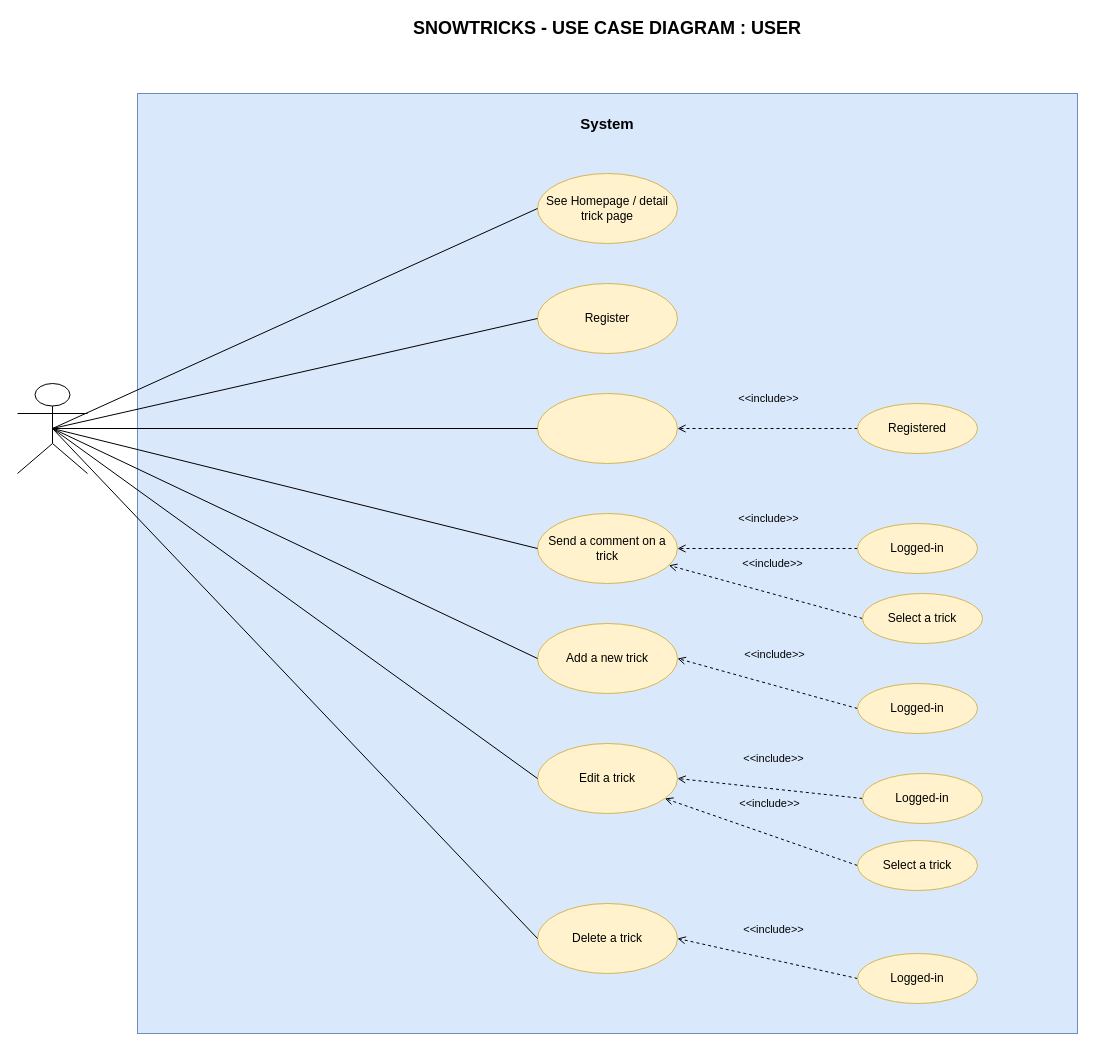
Some shapes in this 1095 by 1051 pixel diagram are drawn without their labels. Here are the shapes that lost their labels. From the top down, the centre of each, then its label:
At (x=52, y=428): "User".
At (x=607, y=428): "Login / Logout".
